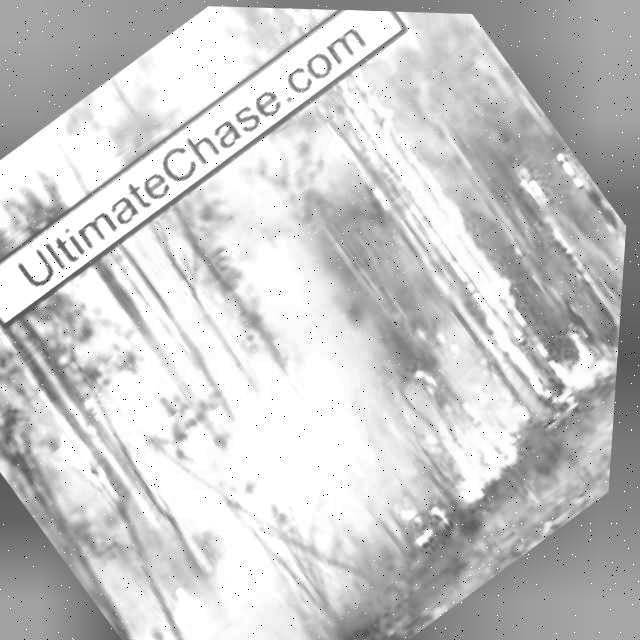Fire: (309, 64, 566, 354), (393, 247, 628, 521), (44, 407, 135, 501), (505, 156, 568, 221), (540, 131, 597, 194), (0, 269, 25, 376)
Smoke: (0, 97, 471, 544), (91, 392, 499, 640), (0, 0, 331, 268), (316, 8, 547, 140)
